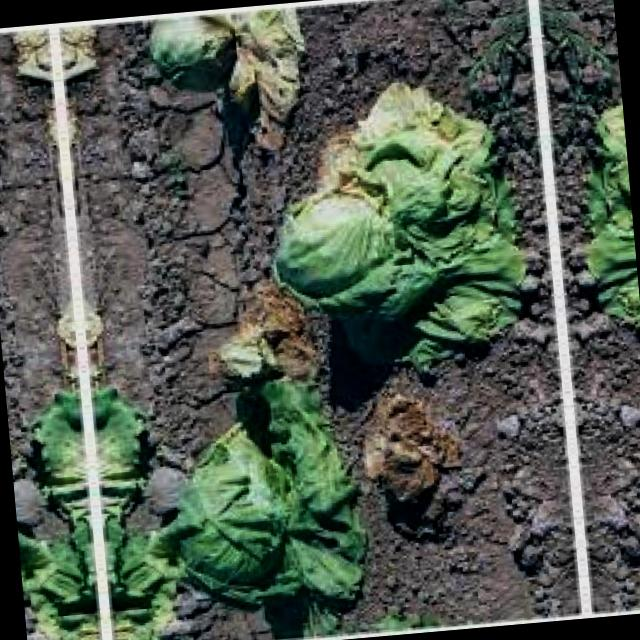healthy: (253, 64, 538, 394), (155, 369, 372, 640), (142, 1, 316, 158), (565, 54, 640, 366), (5, 398, 38, 640)
